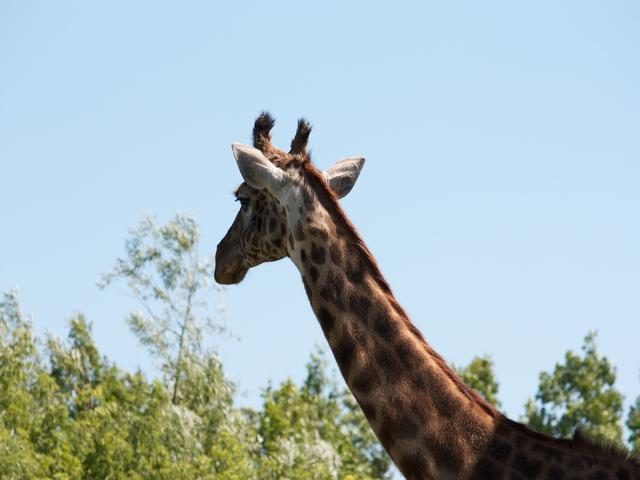giraffe: (151, 77, 640, 472)
